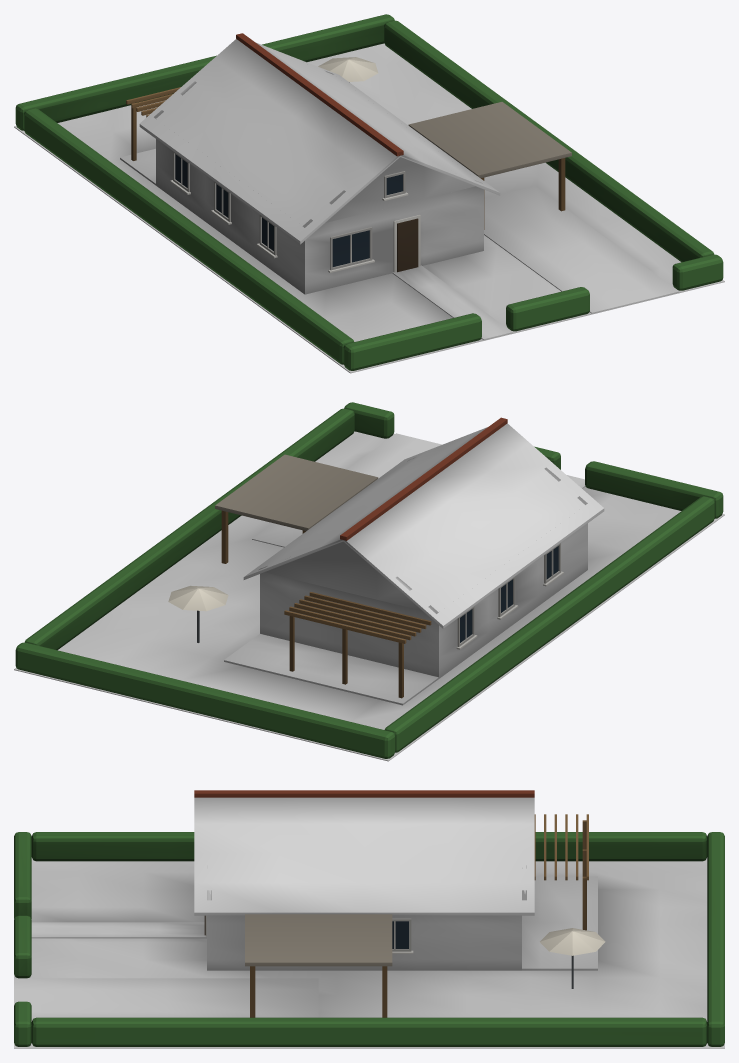
The model's file is ladrillo-CTvIiiwv.glb.
3 renders of one model, top to bottom at view 1: azimuth 30°, elevation 25°; view 2: azimuth 150°, elevation 25°; view 3: azimuth 270°, elevation 25°, orthographic. The views are drawn at different scales.
Visible parts, largest first — view 1: techo, pasto, pieza.008, pieza.006, pieza.004, pieza.005, pieza.003, pieza.013, pieza, mojinete, pieza.001, pieza.007 (+6 smaller); view 2: pasto, techo, pieza.008, pieza.003, pieza.004, pieza.005, pieza.013, pieza.014, mojinete.001, pieza, pieza.006, cumbrera (+8 smaller); view 3: pasto, techo, pieza.005, pieza.006, pieza.004, pieza.008, pieza.013, pieza.014, pieza.003, pieza.007, cumbrera, pieza (+4 smaller).
Boxes of the visible parts, box(x1,y1,x2,y2) form: techo: box(139, 39, 500, 244); pasto: box(14, 43, 724, 373); pieza.008: box(156, 139, 483, 294); pieza.006: box(484, 186, 678, 313); pieza.004: box(24, 108, 353, 364); pieza.005: box(384, 20, 714, 262); pieza.003: box(15, 14, 394, 130); pieza.013: box(408, 102, 571, 178); pieza: box(343, 313, 481, 370); mojinete: box(302, 157, 482, 227); pieza.001: box(506, 287, 589, 331); pieza.007: box(392, 265, 512, 339); pasto: box(14, 431, 724, 761); techo: box(243, 423, 604, 628); pieza.008: box(260, 523, 587, 678); pieza.003: box(15, 642, 395, 758); pieza.004: box(384, 496, 714, 752); pieza.005: box(24, 408, 354, 650); pieza.013: box(215, 454, 378, 531); pieza.014: box(224, 634, 438, 705); mojinete.001: box(258, 541, 438, 613); pieza: box(585, 461, 723, 518); pieza.006: box(252, 433, 441, 547); cumbrera: box(340, 417, 507, 540); pasto: box(14, 857, 724, 1048); techo: box(194, 797, 534, 915); pieza.005: box(31, 1017, 707, 1046); pieza.006: box(14, 978, 318, 1021); pieza.004: box(31, 832, 707, 861); pieza.008: box(207, 915, 521, 970); pieza.013: box(245, 914, 392, 966); pieza.014: box(522, 876, 597, 970); pieza.003: box(707, 832, 724, 1046); pieza.007: box(31, 922, 206, 938); cumbrera: box(194, 790, 534, 797); pieza: box(14, 832, 31, 918).
Size of the model in its own units: 18 by 5.8 by 28.
